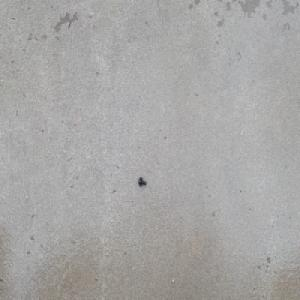BoltWasher: (138, 176, 147, 187)
